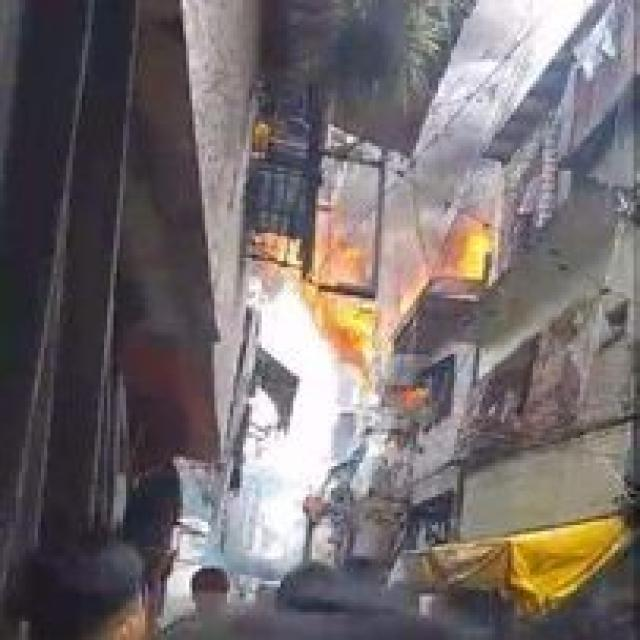Fire: (317, 235, 374, 343), (456, 229, 488, 278)
